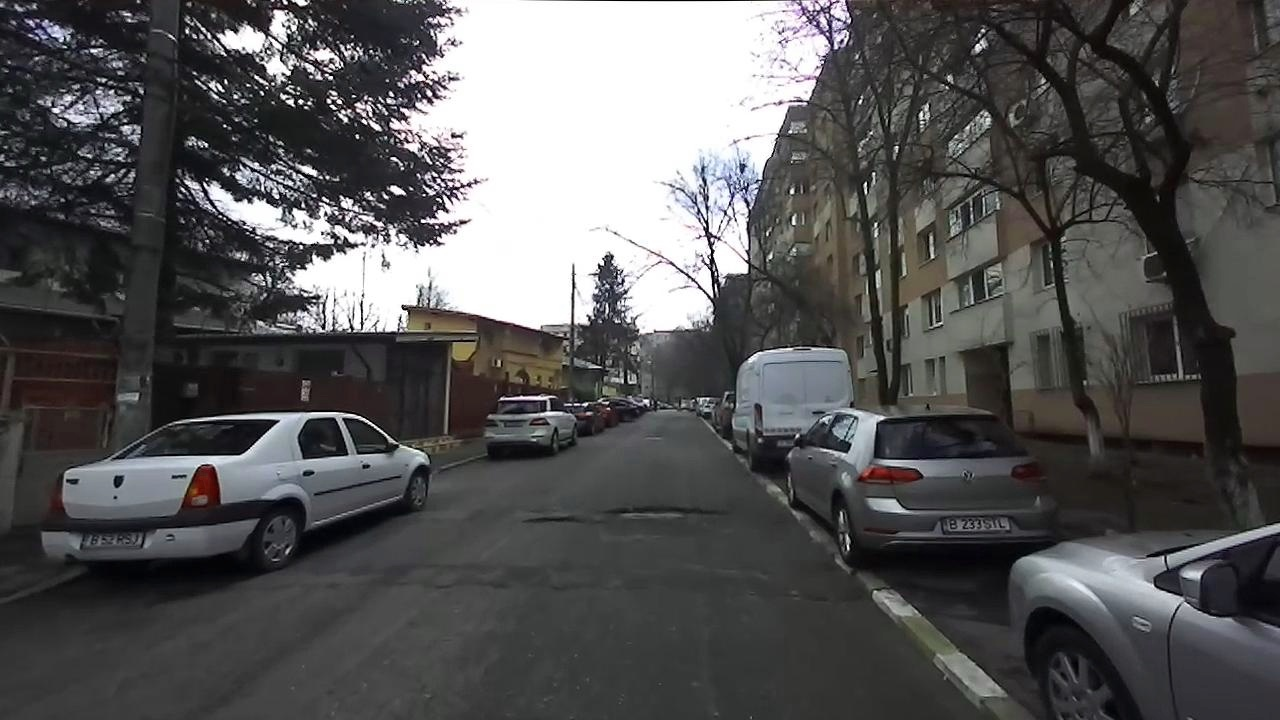pothole: (602, 501, 729, 522), (521, 512, 589, 525)
